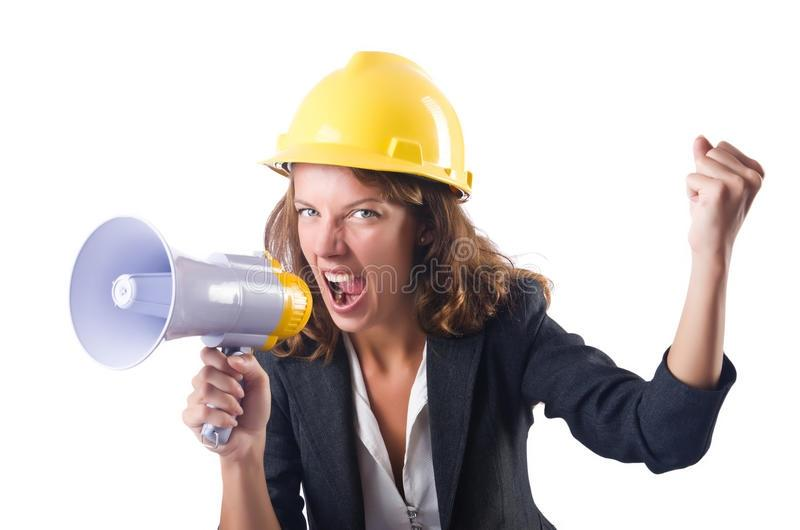helmet: (253, 46, 491, 202)
no_wear: (221, 328, 553, 530)
